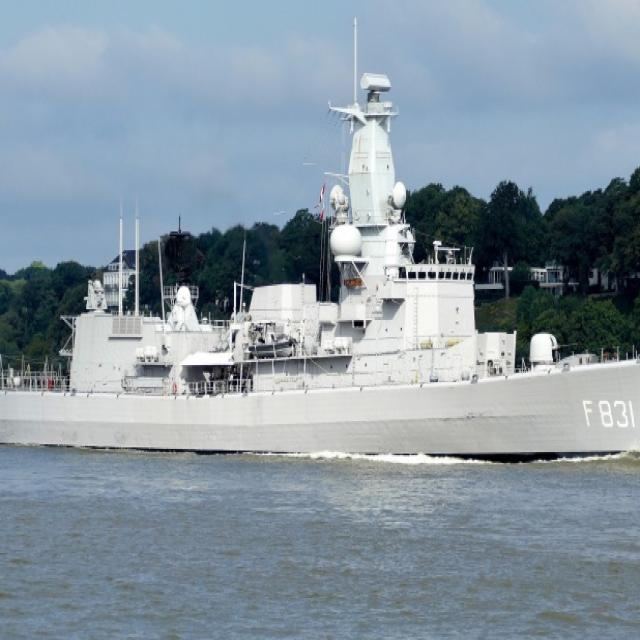Fragata: (1, 60, 640, 473)
